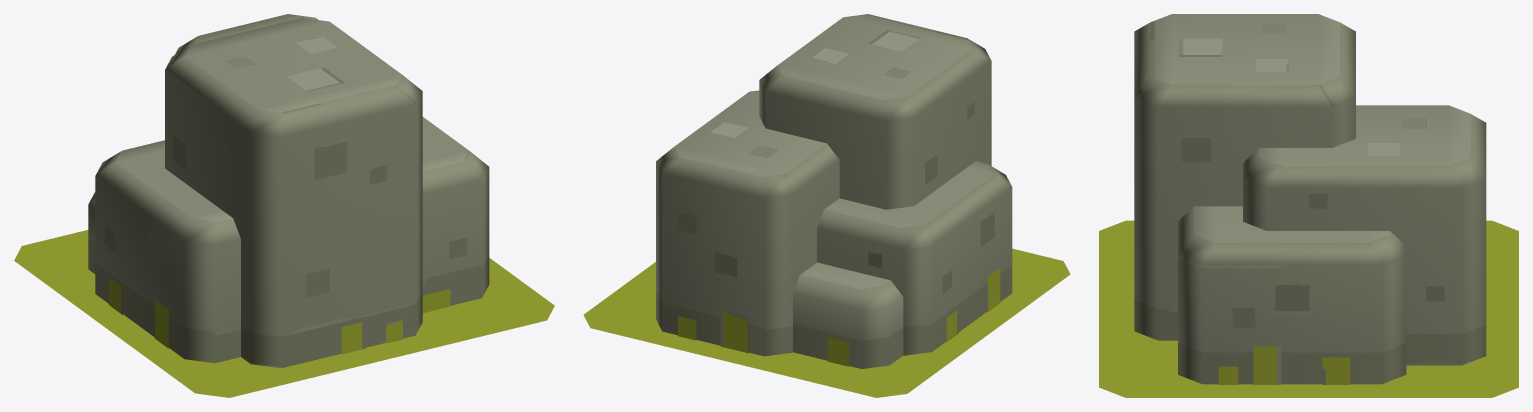
File: B_grass2_rock01.fbx
3 views of the same model, side by side, from view 1: azimuth 30°, elevation 25°; view 2: azimuth 150°, elevation 25°; view 3: azimuth 270°, elevation 25° (orthographic). The views are drawn at different scales.
Visible parts, largest first — view 1: model 1; view 2: model 1; view 3: model 1.
Boxes of the visible parts, x1,y1,x2,y2 form: model 1: (14,14,554,397); model 1: (583,14,1070,397); model 1: (1099,14,1518,397).
Bounding box in the file's own units: 3.43 × 2.28 × 3.43.
